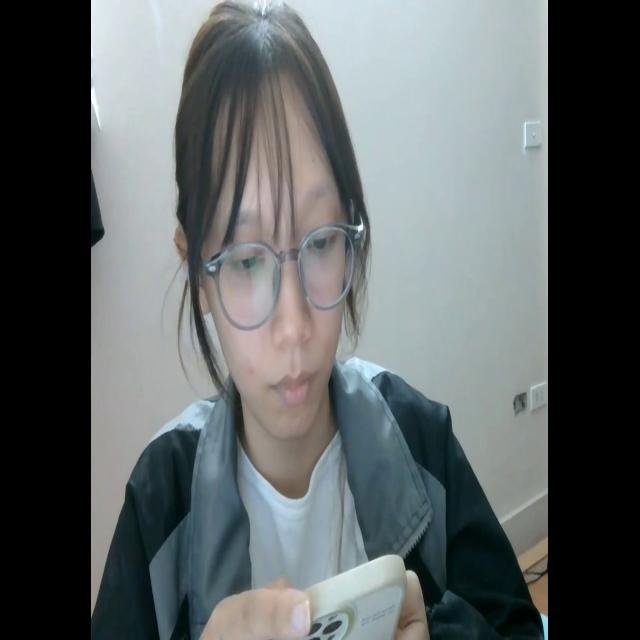phone: (283, 546, 414, 640)
student: (91, 0, 545, 640)
